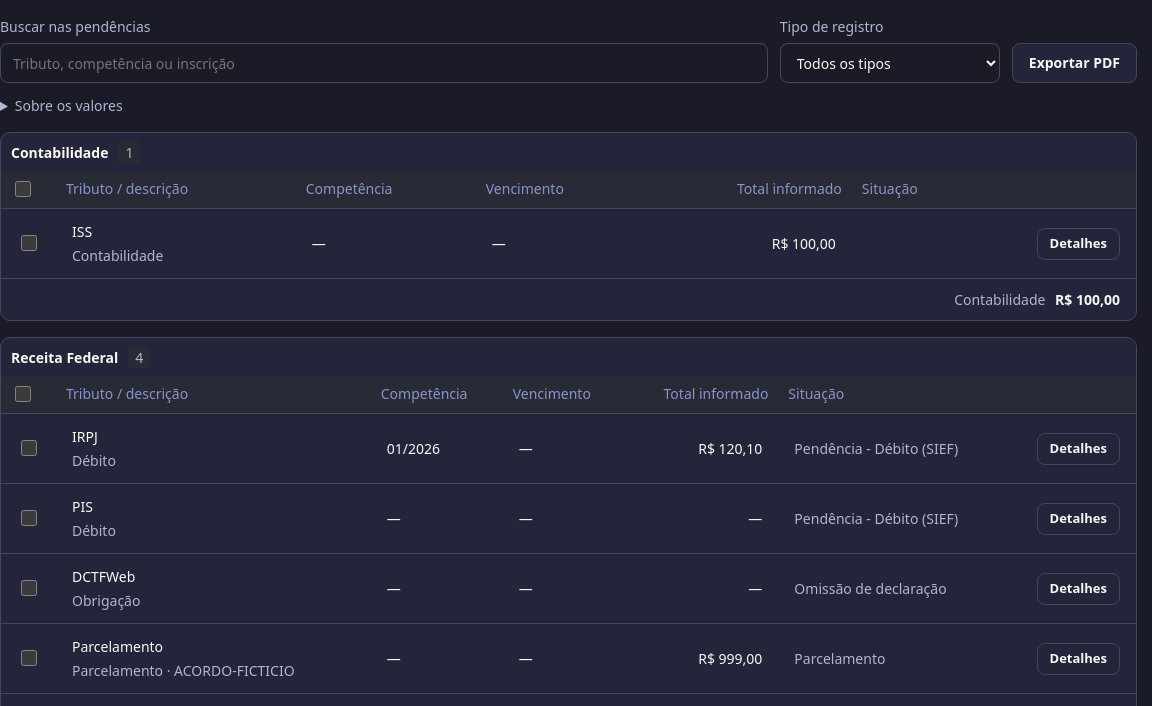
Test: selecionar uma tabela preserva a seleção de outra origem
This screenshot has width=1152, height=706.
Click the checkbox named "Selecionar todos de Contabilidade": (23, 189) [15,181,31,197]
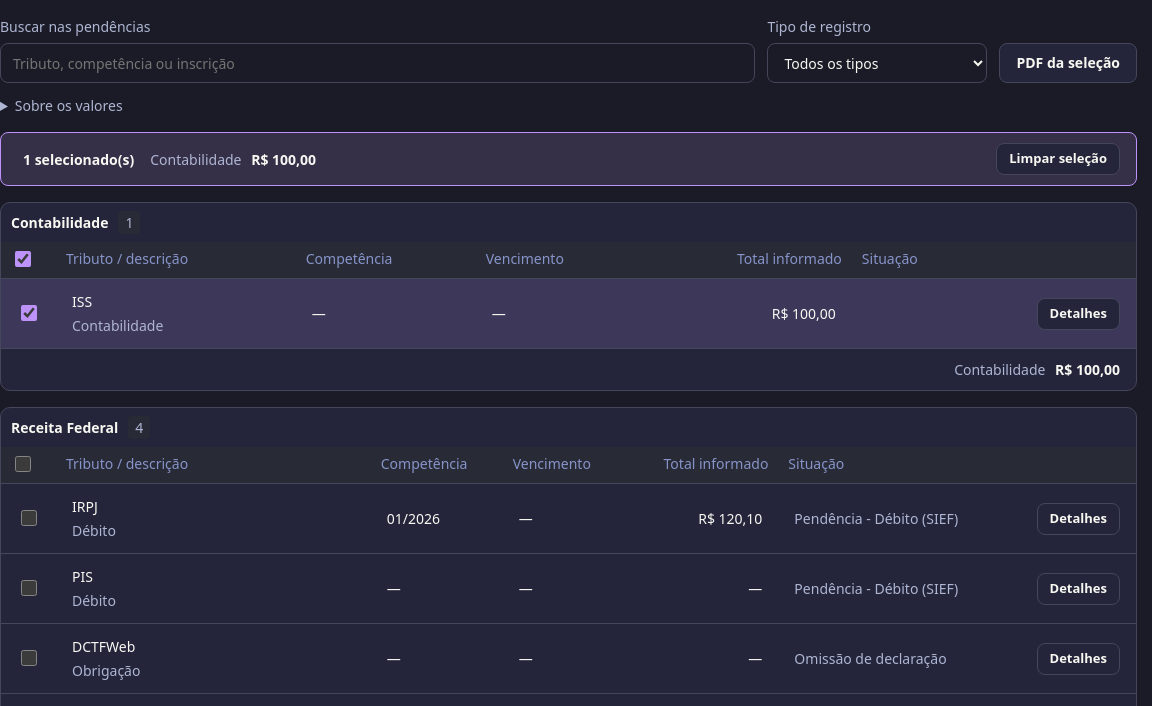
Click the checkbox named "Selecionar todos de Receita Federal": (23, 464) [15,456,31,472]
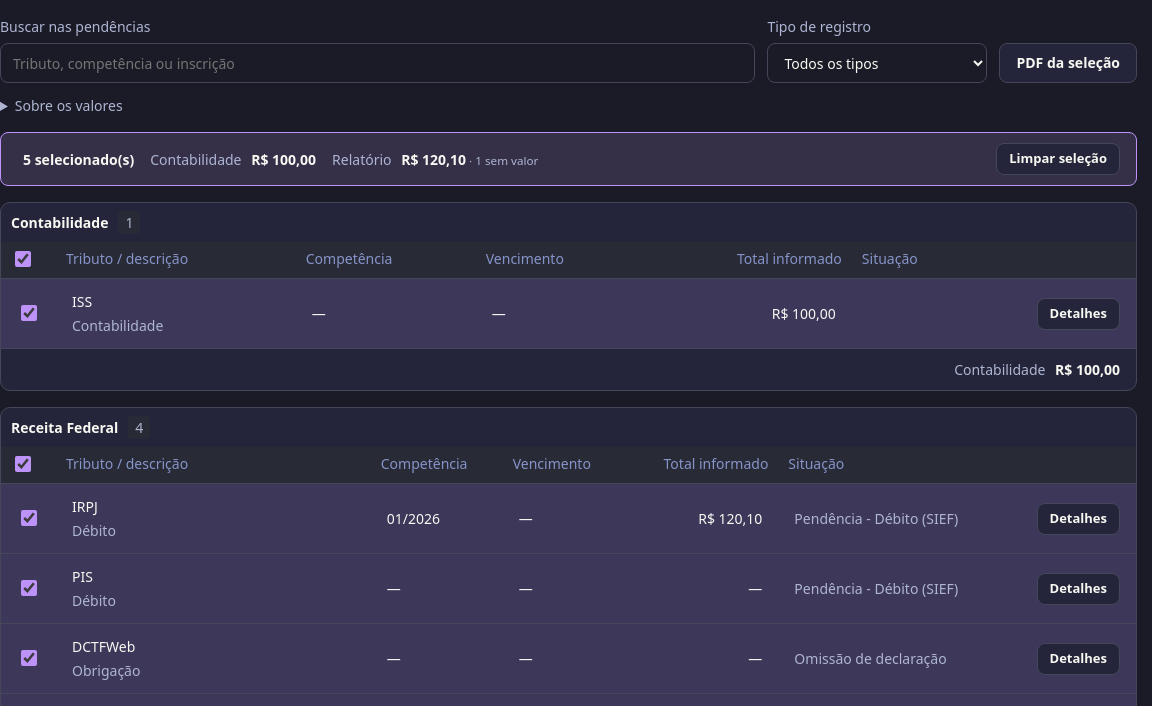
expect the message shows "5 selecionado(s)": met, box [0,132,1137,186]
Click the checkbox named "Selecionar todos de Receita Federal": (23, 464) [15,456,31,472]
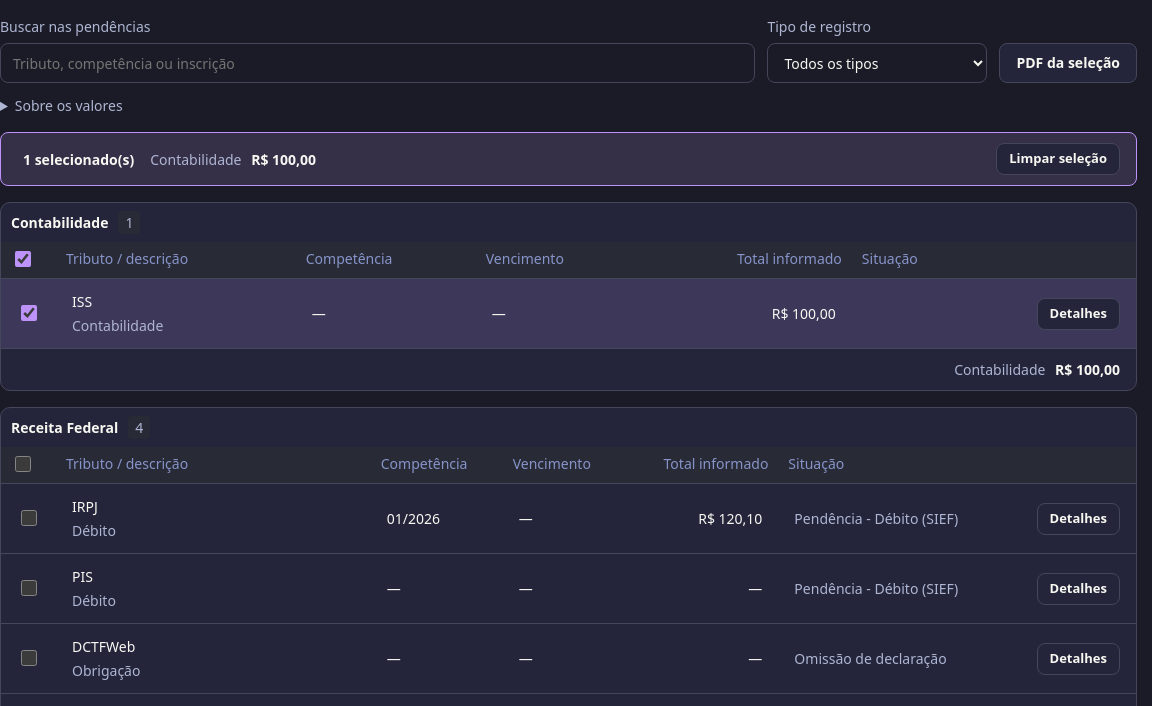
expect the checkbox named "Selecionar todos de Contabilidade" is checked: met, box [15,251,31,267]
expect the message shows "1 selecionado(s)": met, box [0,132,1137,186]
